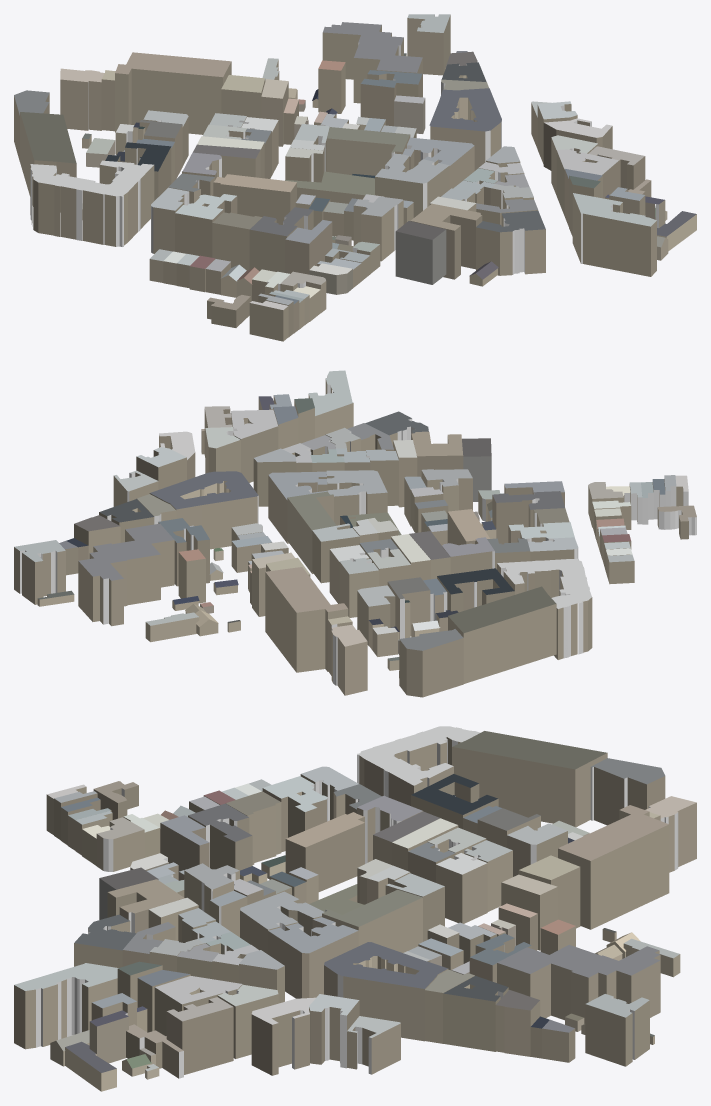
3 renders of one model, top to bottom at view 1: azimuth 30°, elevation 25°; view 2: azimuth 150°, elevation 25°; view 3: azimuth 270°, elevation 25°, orthographic. The views are drawn at different scales.
Visible parts, largest first — view 1: tuile; view 2: tuile; view 3: tuile.
Part boxes in pixels (left/top/right/bottom): tuile: left=14, top=14, right=696, bottom=341; tuile: left=14, top=370, right=696, bottom=697; tuile: left=14, top=726, right=696, bottom=1091.
Size of the model in its own units: 282 by 39.89 by 281.
